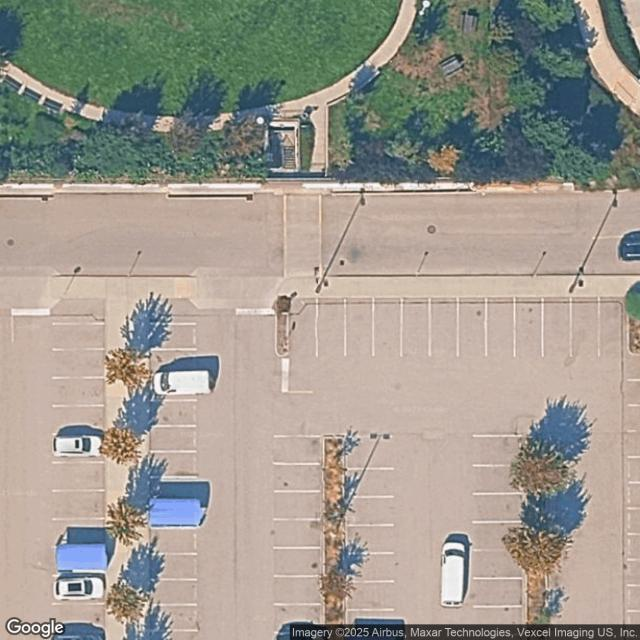car: (438, 533, 472, 610), (153, 371, 215, 394), (54, 577, 104, 603), (53, 434, 101, 457), (52, 621, 108, 640), (273, 620, 315, 639)
objects: (144, 498, 204, 528), (56, 546, 110, 572)
